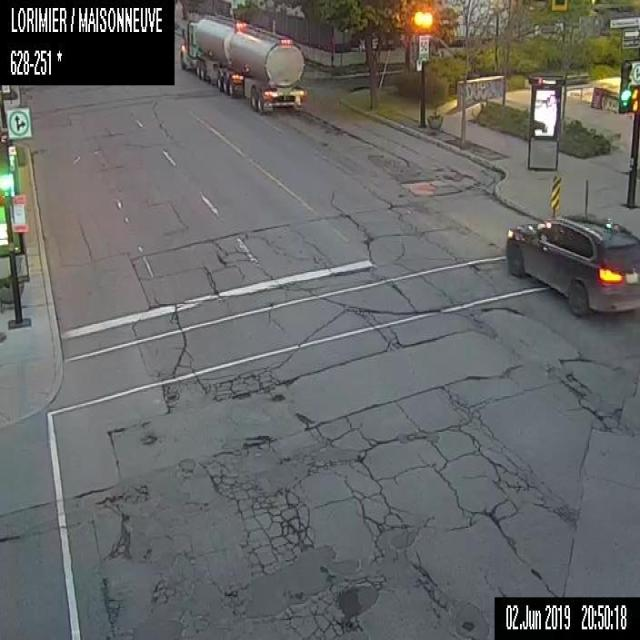vehicle: (505, 209, 639, 316), (179, 11, 307, 113)
